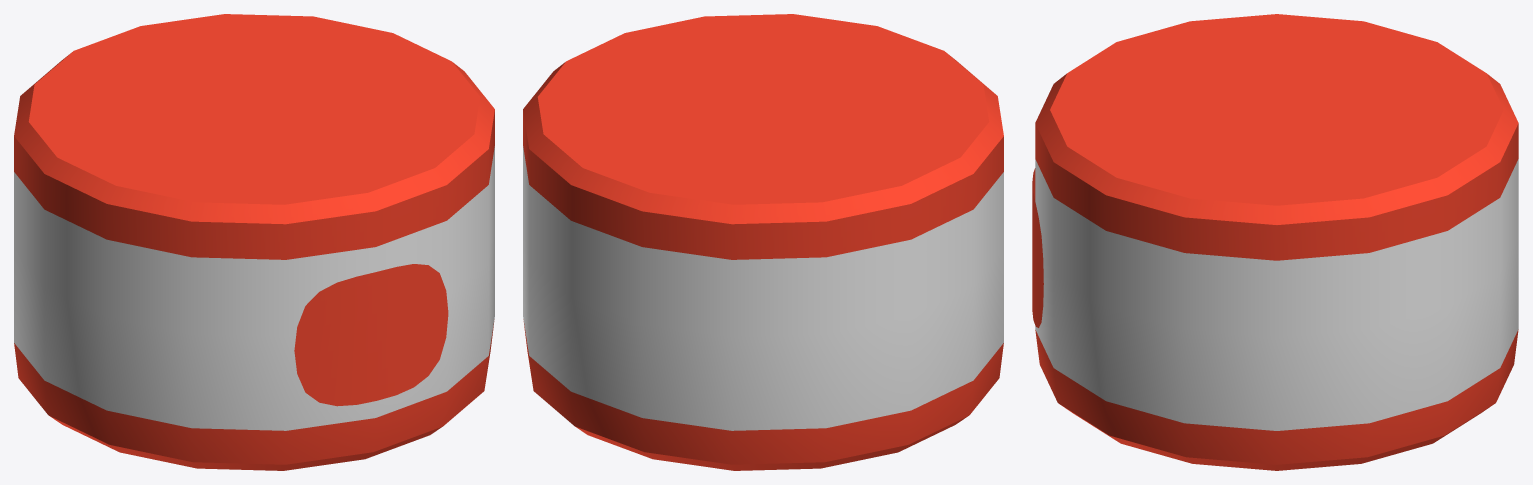
Rendered from Body_Dress_10.fbx.
3 renders of one model, left to right at view 1: azimuth 30°, elevation 25°; view 2: azimuth 150°, elevation 25°; view 3: azimuth 270°, elevation 25°, orthographic.
Visible parts, largest first — view 1: Body_Dress_10; view 2: Body_Dress_10; view 3: Body_Dress_10.
Part boxes in pixels (x1,y1,x2,y2): Body_Dress_10: [14, 14, 494, 470]; Body_Dress_10: [523, 14, 1003, 470]; Body_Dress_10: [1032, 14, 1518, 470].
Bounding box in the file's own units: 100 × 61.13 × 101.
